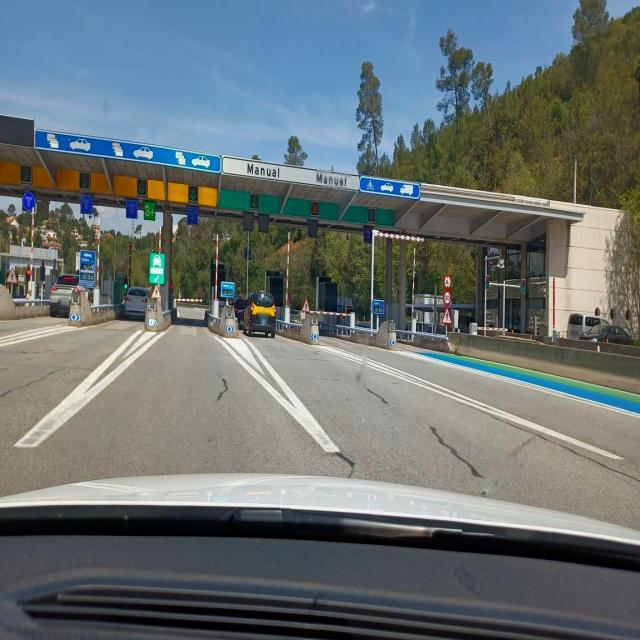car: (242, 290, 276, 338), (50, 272, 79, 316), (566, 312, 604, 341), (124, 286, 149, 320), (596, 324, 635, 345), (233, 296, 246, 326)
